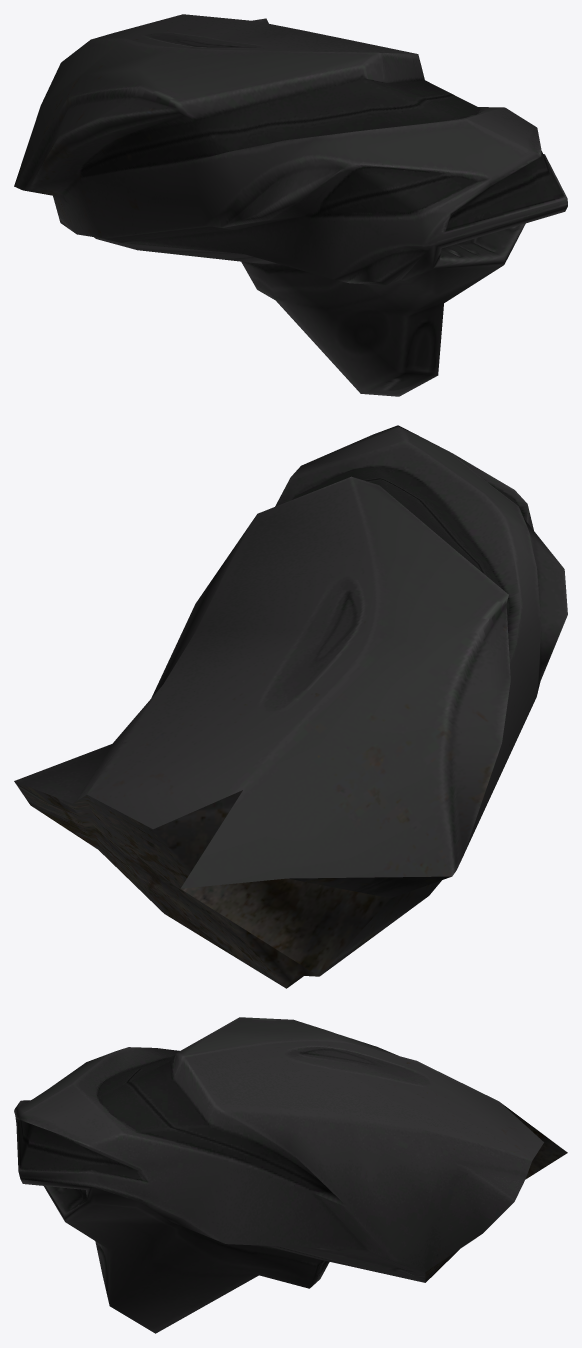
The model's file is pinger_destroyed_body.dae.
The picture shows the model from 3 angles, top to bottom: view 1: azimuth 30°, elevation 25°; view 2: azimuth 150°, elevation 25°; view 3: azimuth 270°, elevation 25°; orthographic projection. The views are drawn at different scales.
Parts seen in each view (by area): view 1: left_body_2; view 2: left_body_2; view 3: left_body_2.
Boxes of the visible parts, bbox=[...] form: left_body_2: bbox=[14, 14, 567, 396]; left_body_2: bbox=[14, 425, 567, 988]; left_body_2: bbox=[14, 1017, 567, 1333].
Bounding box in the file's own units: 1.56 × 2.69 × 1.48.
Materials: 2 (2 with a texture image).
